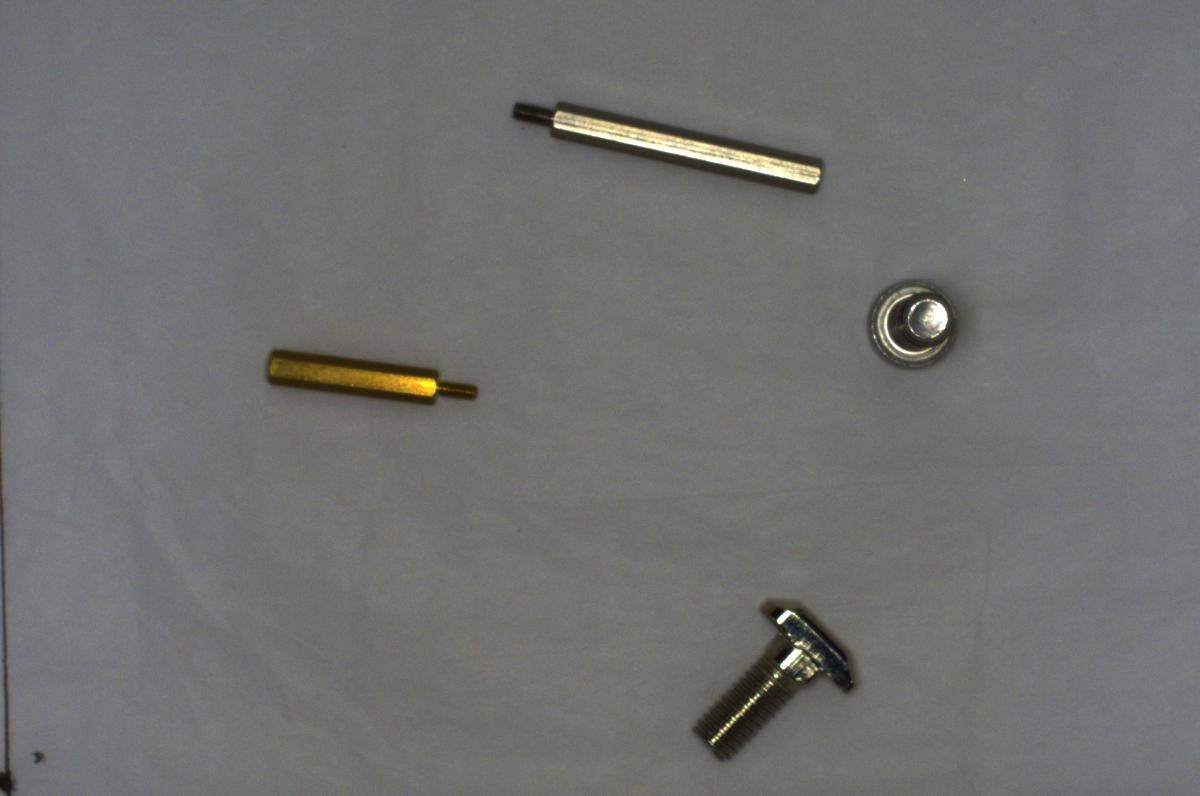Hexagon pillar: (253, 345, 484, 416)
Hexagon screw: (854, 276, 962, 380)
Hexagonal steel column: (502, 90, 828, 196)
T-shaped screw: (688, 583, 867, 768)
